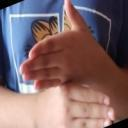hand: (18, 0, 123, 90), (22, 85, 116, 128)
